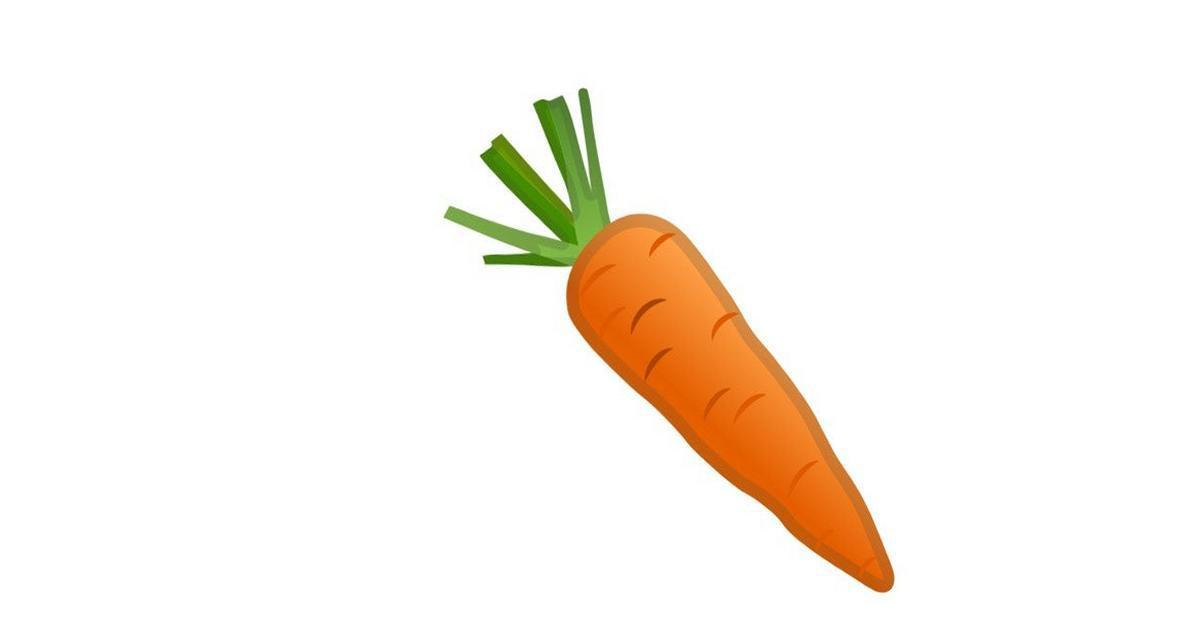carrot: (448, 105, 938, 583)
